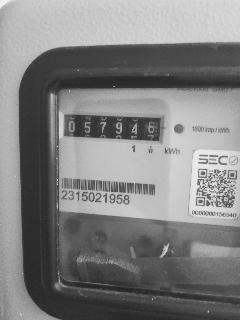1: (69, 122, 75, 133)
5: (131, 124, 137, 135)
6: (84, 123, 90, 134)
7: (148, 121, 154, 133)
8: (100, 123, 106, 134)
:: (116, 123, 122, 134)
